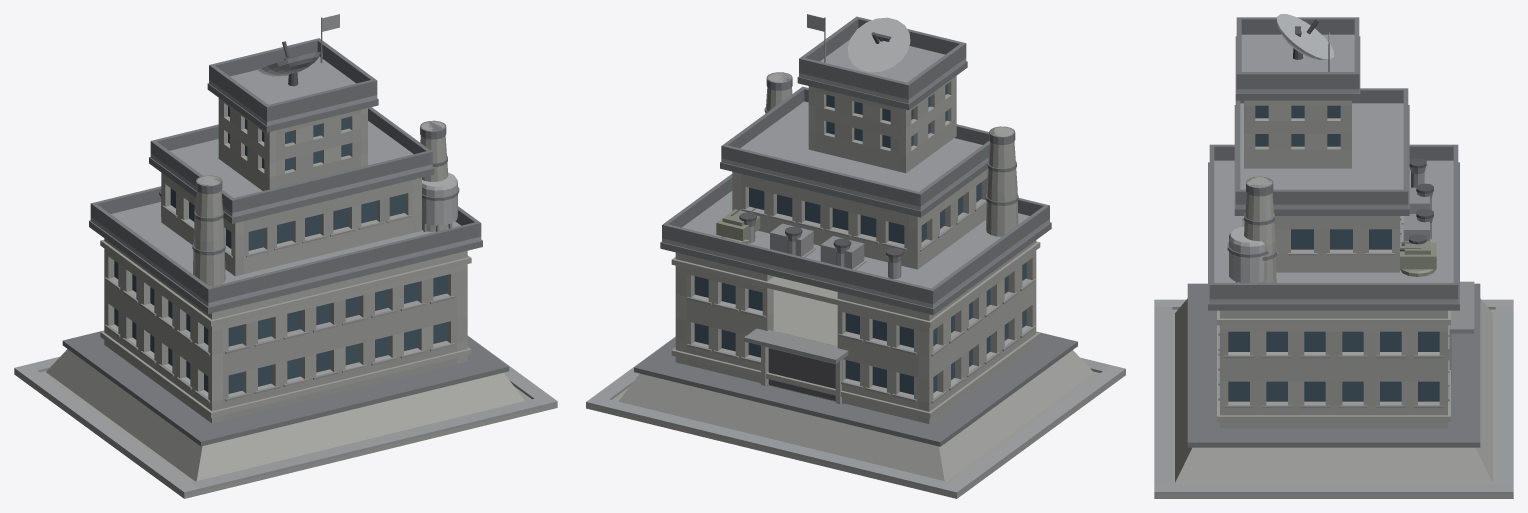
Rendered from soviet_hq.glb.
3 views of the same model, side by side, from view 1: azimuth 30°, elevation 25°; view 2: azimuth 150°, elevation 25°; view 3: azimuth 270°, elevation 25° (orthographic). The views are drawn at different scales.
Visible parts, largest first — view 1: main_wall, plinth, plinth_cap, tier_wall, tower_wall, apron_rim, main_parapet, tier_parapet, main_glass, tower_parapet, main_deck, tier_deck (+15 smaller); view 2: main_wall, plinth, plinth_cap, tier_wall, tower_wall, apron_rim, main_parapet, tier_deck, main_deck, tier_parapet, main_band_low, tower_parapet (+19 smaller); view 3: main_wall, plinth, plinth_cap, apron_rim, main_deck, tier_deck, main_parapet, tower_wall, tier_wall, main_glass, tower_parapet, tier_parapet (+17 smaller).
Part boxes in pixels (left/top/right/bottom): main_wall: left=104, top=238, right=467, bottom=423; plinth: left=46, top=349, right=524, bottom=481; plinth_cap: left=62, top=330, right=509, bottom=446; tier_wall: left=161, top=172, right=421, bottom=276; tower_wall: left=218, top=98, right=367, bottom=190; apron_rim: left=14, top=335, right=557, bottom=494; main_parapet: left=90, top=186, right=481, bottom=302; tier_parapet: left=150, top=107, right=432, bottom=212; main_glass: left=114, top=261, right=447, bottom=393; tower_parapet: left=209, top=38, right=377, bottom=121; main_deck: left=90, top=202, right=481, bottom=306; tier_deck: left=150, top=121, right=432, bottom=217; main_wall: left=675, top=240, right=1036, bottom=423; plinth: left=618, top=350, right=1093, bottom=481; plinth_cap: left=634, top=331, right=1077, bottom=446; tier_wall: left=732, top=169, right=987, bottom=269; tower_wall: left=808, top=76, right=956, bottom=173; apron_rim: left=586, top=336, right=1125, bottom=494; main_parapet: left=662, top=174, right=1049, bottom=304; tier_deck: left=721, top=101, right=988, bottom=210; main_deck: left=662, top=191, right=1049, bottom=308; tier_parapet: left=721, top=86, right=989, bottom=206; main_band_low: left=671, top=289, right=1040, bottom=418; tower_parapet: left=799, top=16, right=966, bottom=99; main_wall: left=1220, top=310, right=1451, bottom=428; plinth: left=1175, top=298, right=1492, bottom=483; plinth_cap: left=1187, top=283, right=1480, bottom=447; apron_rim: left=1154, top=299, right=1513, bottom=494; main_deck: left=1209, top=160, right=1458, bottom=303; tier_deck: left=1235, top=103, right=1408, bottom=208; main_parapet: left=1209, top=144, right=1458, bottom=299; tower_wall: left=1244, top=100, right=1351, bottom=168; tier_wall: left=1244, top=216, right=1399, bottom=272; main_glass: left=1228, top=331, right=1439, bottom=401; tower_parapet: left=1236, top=17, right=1359, bottom=89; tier_parapet: left=1235, top=88, right=1408, bottom=204.
Bounding box in the file's own units: 38 × 35.7 × 30.
